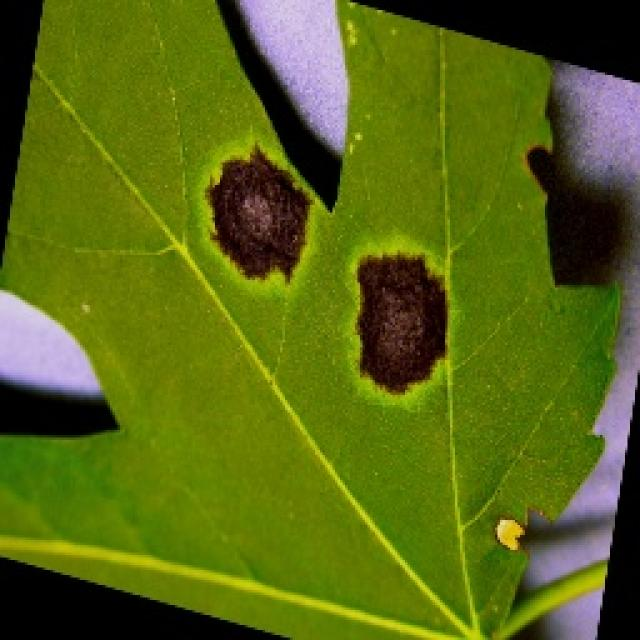Tar_Spot: (0, 0, 638, 638), (141, 66, 490, 415)
